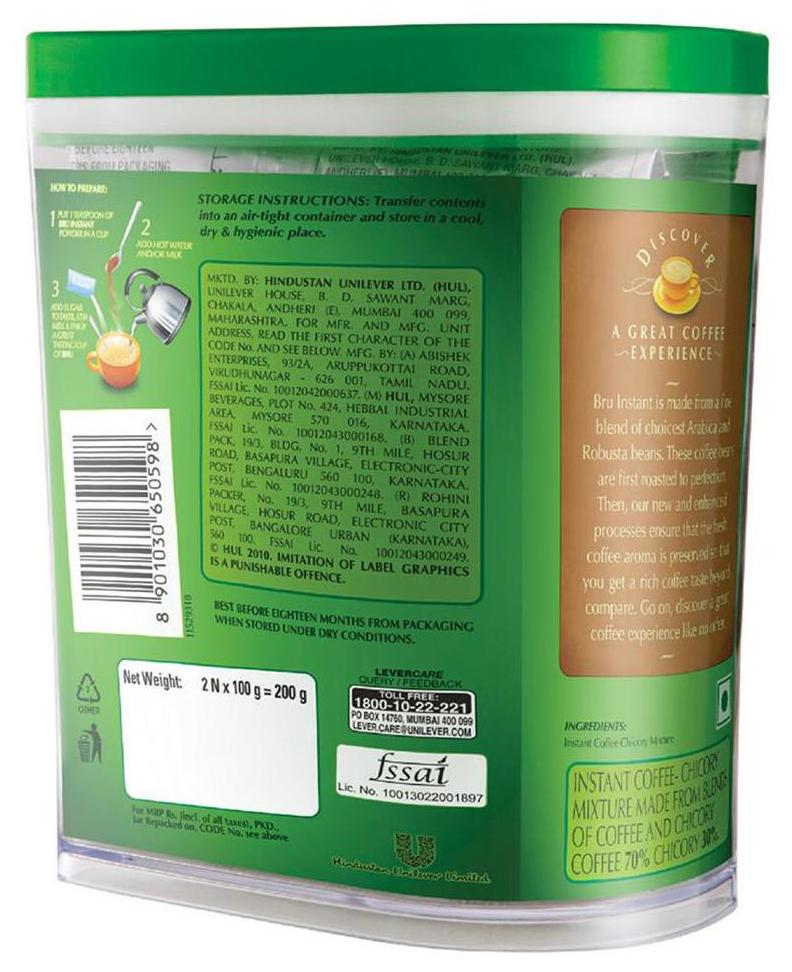fssai: (370, 755, 450, 784)
